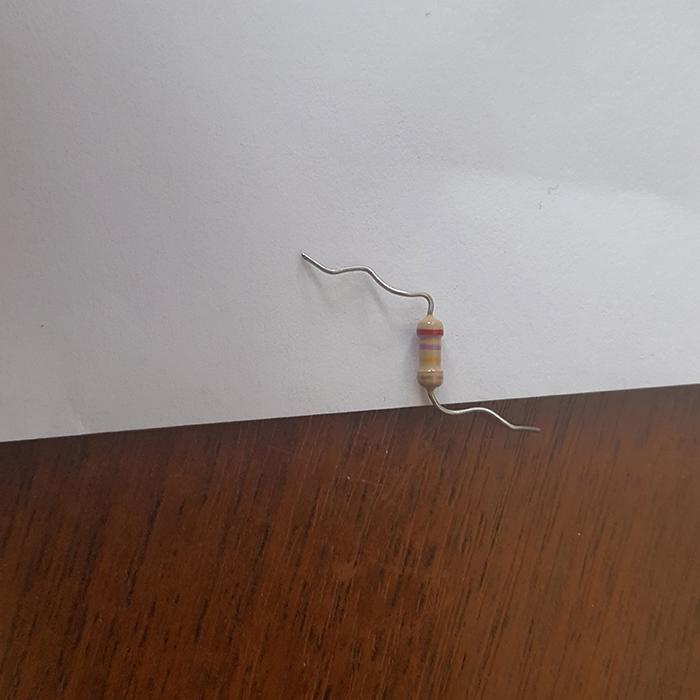resistor: (415, 312, 444, 389)
